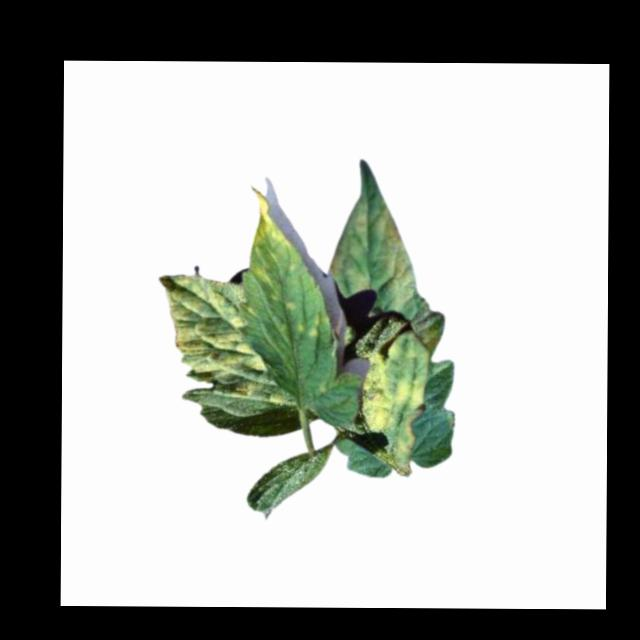Leaf_Mold: (159, 275, 270, 400), (329, 203, 418, 312), (360, 343, 425, 469), (248, 186, 300, 280)
